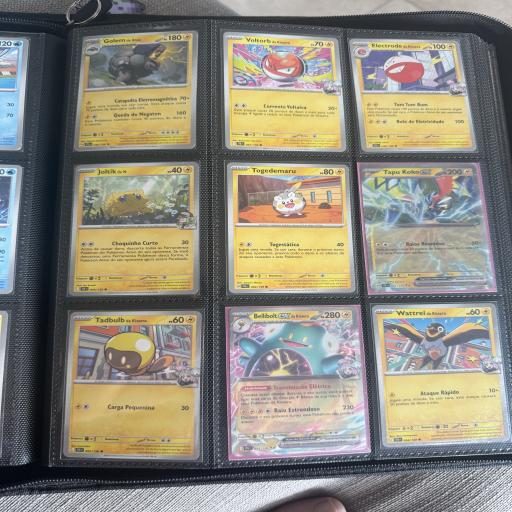card: (371, 296, 512, 450), (228, 305, 369, 458), (62, 308, 203, 460), (360, 155, 496, 298), (66, 160, 200, 296), (226, 160, 357, 295), (70, 30, 203, 151), (220, 31, 350, 152), (348, 36, 479, 154)
